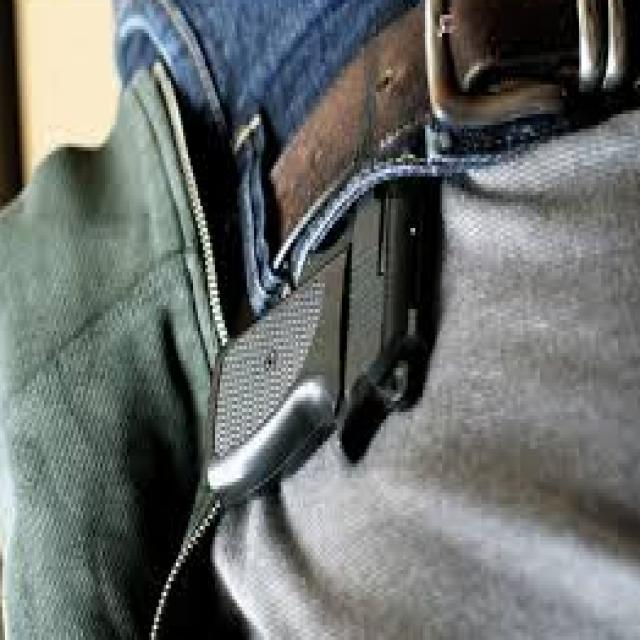gun: (192, 55, 472, 551)
